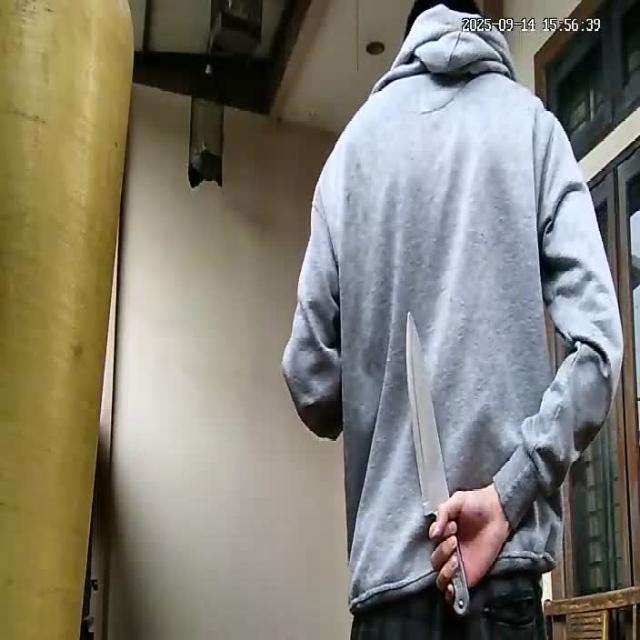senjata_tajam: (403, 310, 452, 519)
